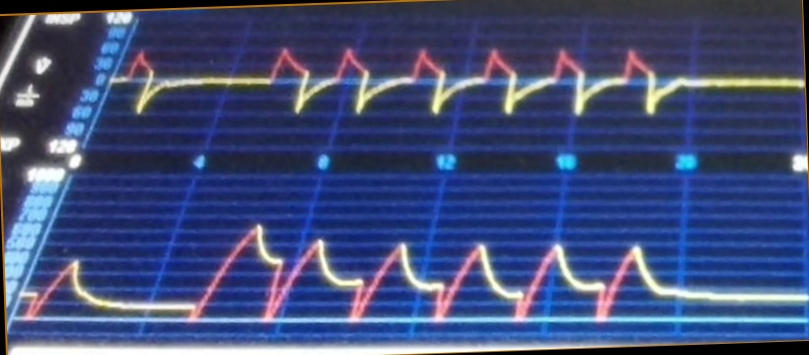Flow: (124, 22, 727, 146)
Leakage Volume: (23, 223, 747, 338)
